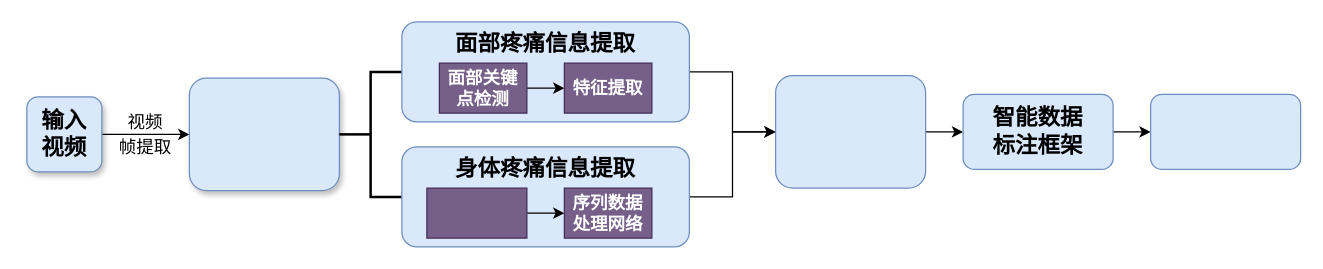
This 1323x269 diagram has some shape labels left out. The shapes that lost their labels are listed below. From the top down, each one's centre as x and y in pixels, then its label:
pixel 265 135: 新生儿视频 样本帧序列 I 1 ... I t ... I T
pixel 850 131: 关键帧感知 的时间卷积
pixel 1225 131: 输出 标注结果
pixel 476 212: 姿态估计
